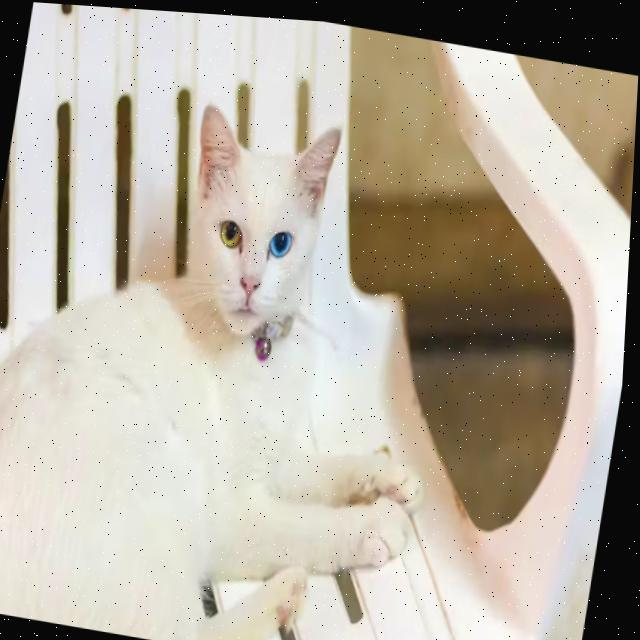Khao Manee: (0, 54, 486, 640)
